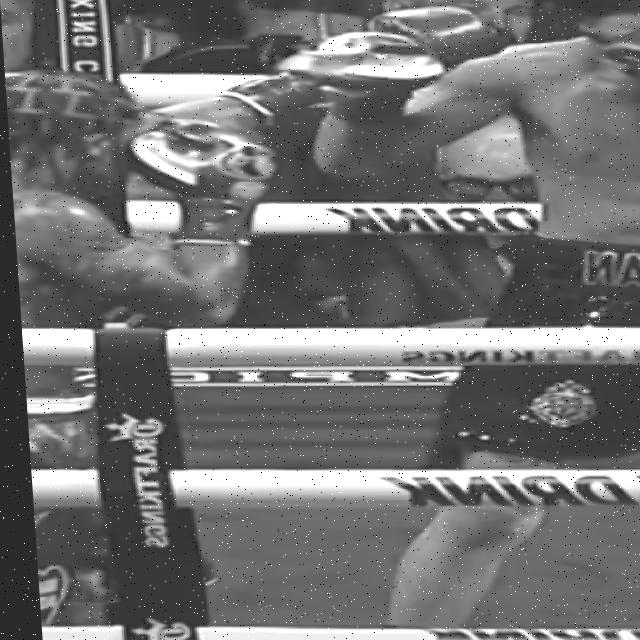Jab: (0, 6, 640, 640)
